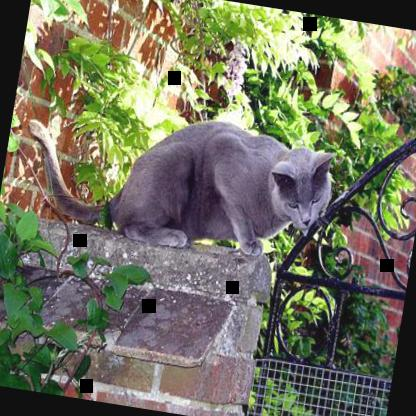cat: (13, 91, 340, 270)
